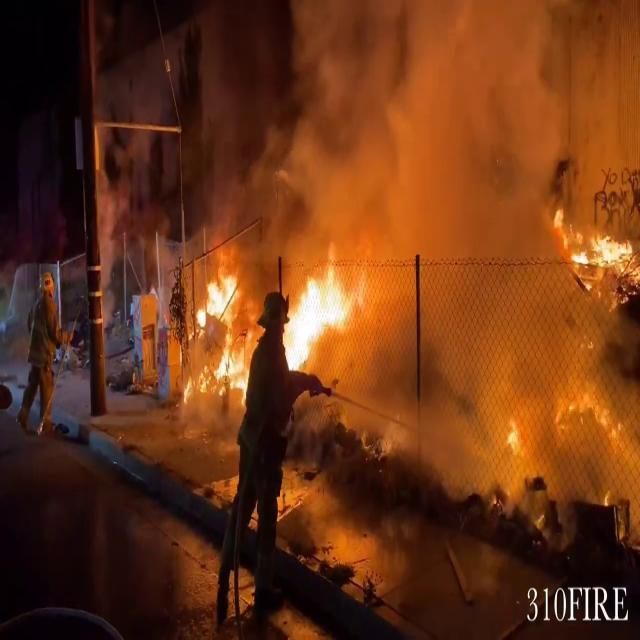Fire: (278, 249, 358, 375), (194, 263, 246, 392), (562, 216, 640, 299)
Smoke: (320, 0, 640, 494)
